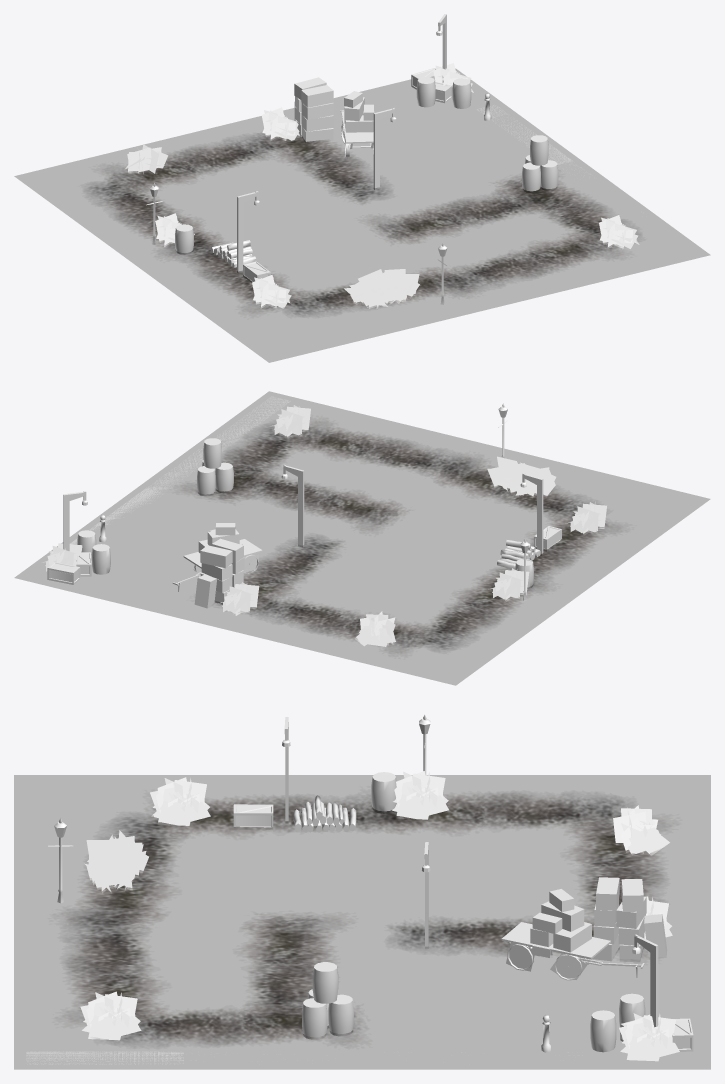
Rendered from propsonly_2.gltf.
3 views of the same model, one above another, from view 1: azimuth 30°, elevation 25°; view 2: azimuth 150°, elevation 25°; view 3: azimuth 270°, elevation 25° (orthographic). The views are drawn at different scales.
Parts seen in each view (by area): view 1: file_b2_ground1.010, file_b2_ground3.008, file_b2_ground3.012, file_b2_ground1.013, file_b2_ground2.002, file_ground.010, file_b2_ground3.011, file_b2_ground1.001, file_b2_ground1.012, file_b2_ground1.008, file_b2_ground1.011, file_b2_ground3.014 (+29 smaller); view 2: file_b1_ground.001, file_b2_ground3.008, file_b2_ground1.012, file_b2_ground3.011, file_b2_ground1.010, file_b2_ground1.001, file_b2_ground2.002, file_b2_ground1.013, file_b2_ground1.009, file_ground.010, file_b2_ground1.011, file_b2_ground3.014 (+30 smaller); view 3: file_b2_ground2.002, file_b2_ground1.012, file_b2_ground1.010, file_b2_ground3.008, file_b2_ground3.012, file_b2_ground1.011, file_b2_ground3.014, file_ground.010, file_b2_ground1.013, file_b2_ground1.008, file_b2_ground1.009, file_b2_ground3.011 (+30 smaller).
Boxes of the visible parts, x1,y1,x2,y2 form: file_b2_ground1.010: (190,166,370,242); file_b2_ground3.008: (14,147,200,226); file_b2_ground3.012: (466,159,648,238); file_b2_ground1.013: (362,188,529,261); file_b2_ground2.002: (399,112,580,191); file_ground.010: (207,291,376,362); file_b2_ground3.011: (530,209,710,283); file_b2_ground1.001: (133,121,307,192); file_b2_ground1.012: (433,238,602,307); file_b2_ground1.008: (140,243,324,317); file_b2_ground1.011: (315,257,494,336); file_b2_ground3.014: (295,140,465,211); file_b1_ground.001: (360,494,536,568); file_b2_ground3.008: (337,610,523,685); file_b2_ground1.012: (309,417,491,493); file_b2_ground3.011: (201,391,386,469); file_b2_ground1.010: (293,537,461,613); file_b2_ground1.001: (230,580,409,659); file_b2_ground2.002: (75,484,252,559); file_b2_ground1.013: (247,464,426,534); file_b2_ground1.009: (400,561,579,638); file_ground.010: (543,472,710,548); file_b2_ground1.011: (416,444,602,517); file_b2_ground3.014: (191,509,370,584); file_b2_ground2.002: (359,990,545,1069); file_b2_ground1.012: (14,922,200,997); file_b2_ground1.010: (354,847,540,925); file_b2_ground3.008: (524,775,710,853); file_b2_ground3.012: (184,990,370,1069); file_b2_ground1.011: (14,847,200,925); file_b2_ground3.014: (354,918,540,997); file_ground.010: (14,775,200,853); file_b2_ground1.013: (184,918,370,996); file_b2_ground1.008: (184,775,370,853); file_b2_ground1.009: (354,775,540,853); file_b2_ground3.011: (14,997,200,1069).
Size of what is drawn, in the model's own units: 4.1 by 0.7405 by 4.1.
